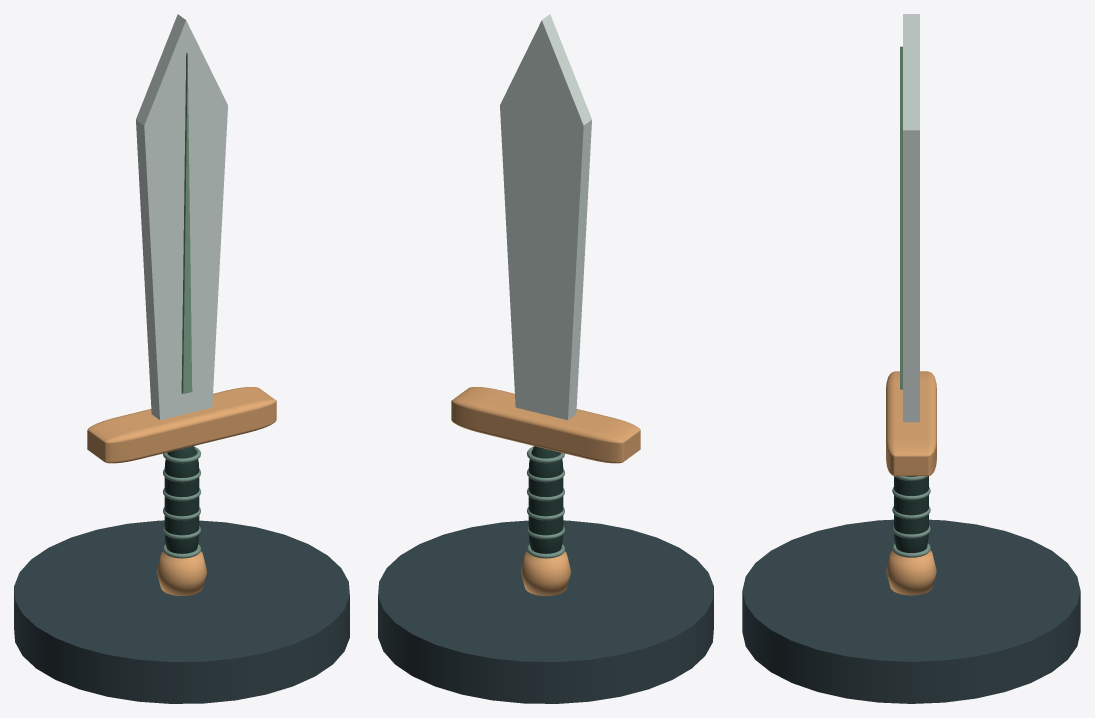
The model's file is verdant-blade.glb.
3 views of the same model, side by side, from view 1: azimuth 30°, elevation 25°; view 2: azimuth 150°, elevation 25°; view 3: azimuth 270°, elevation 25° (orthographic).
Visible parts, largest first — view 1: plinth, blade, guard, grip, inlay, pommel; view 2: plinth, blade, guard, grip, pommel; view 3: plinth, blade, guard, grip, pommel, inlay.
Boxes of the visible parts, x1,y1,x2,y2 form: plinth: (14,520,349,703); blade: (136,14,227,420); guard: (87,387,276,463); grip: (164,446,199,553); inlay: (181,53,192,393); pommel: (157,551,206,595); plinth: (378,520,713,703); blade: (500,14,591,420); guard: (451,387,640,463); grip: (528,446,563,553); pommel: (521,551,570,595); plinth: (742,519,1080,703); blade: (903,14,919,422); guard: (886,371,936,476); grip: (894,476,928,552); pommel: (886,550,936,595); inlay: (900,46,902,389).
Size of the model in its own units: 1.6 by 3.23 by 1.6.
